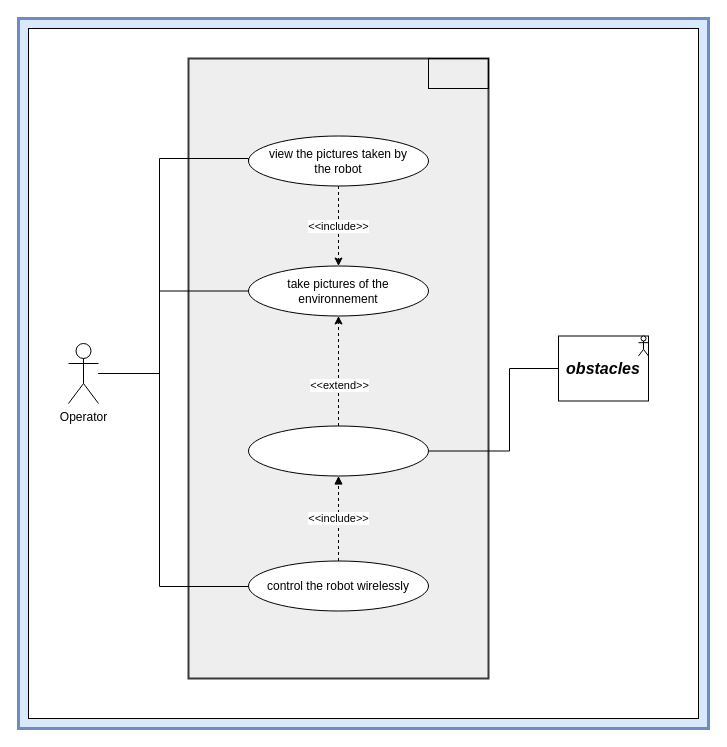
Some shapes in this 727 by 747 pixel diagram are drawn without their labels. The shapes that lost their labels are listed below. From the top down, each one's box as (x1, y1, x2, y2) in pixels, then its label:
(428, 58, 488, 88): UC : Robot
(248, 425, 428, 476): detect potential obstacles
